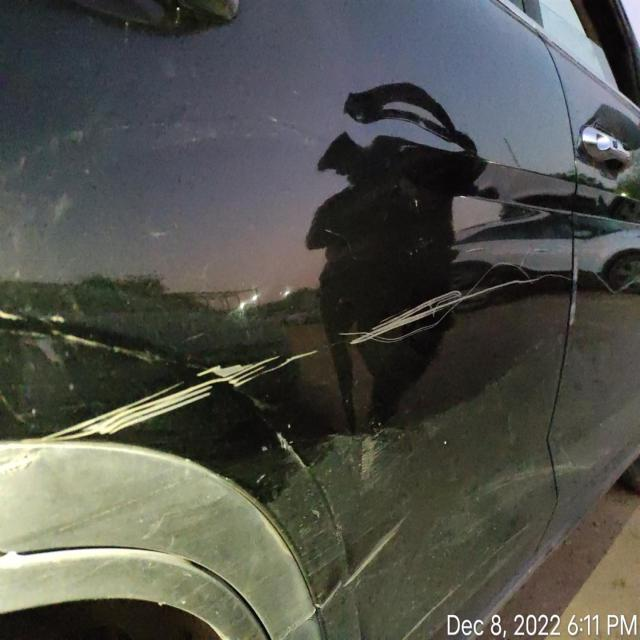damage: (15, 272, 474, 447)
